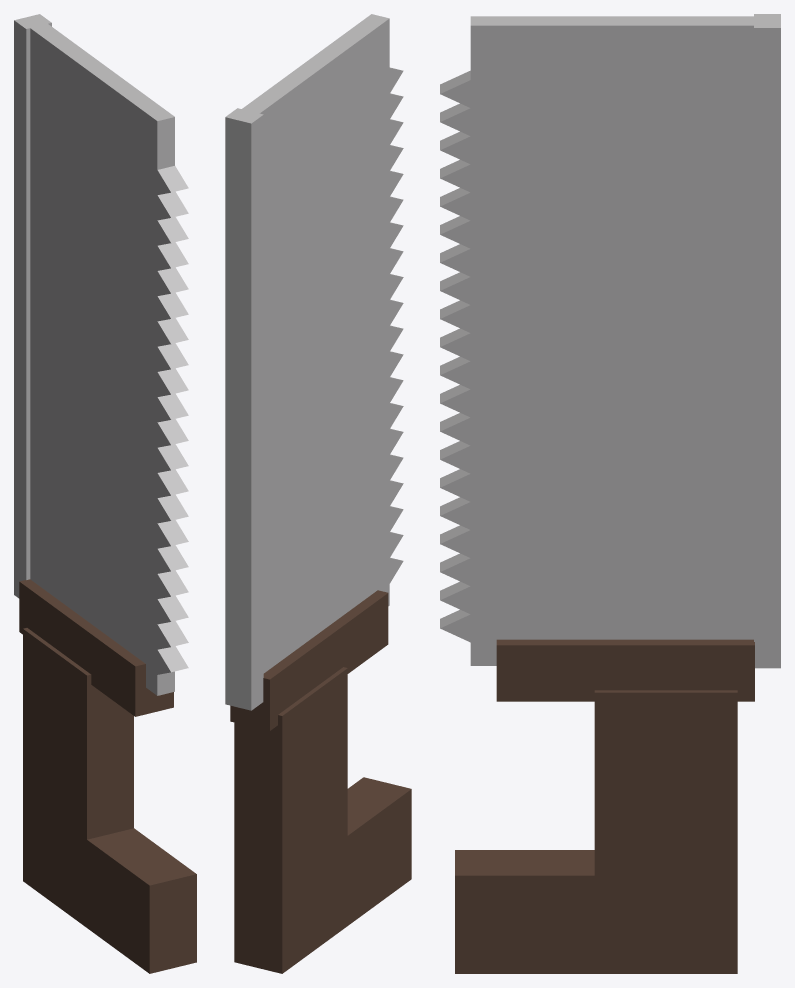
Rendered from tool.saw.glb.
3 renders of one model, left to right at view 1: azimuth 30°, elevation 25°; view 2: azimuth 150°, elevation 25°; view 3: azimuth 270°, elevation 25°, orthographic. The views are drawn at different scales.
Visible parts, largest first — view 1: saw; view 2: saw; view 3: saw.
Part boxes in pixels (x1,y1,x2,y2): saw: (14,14,196,973); saw: (225,14,411,973); saw: (440,14,780,973).
Bounding box in the file's own units: 0.0586 × 1 × 0.3296.
